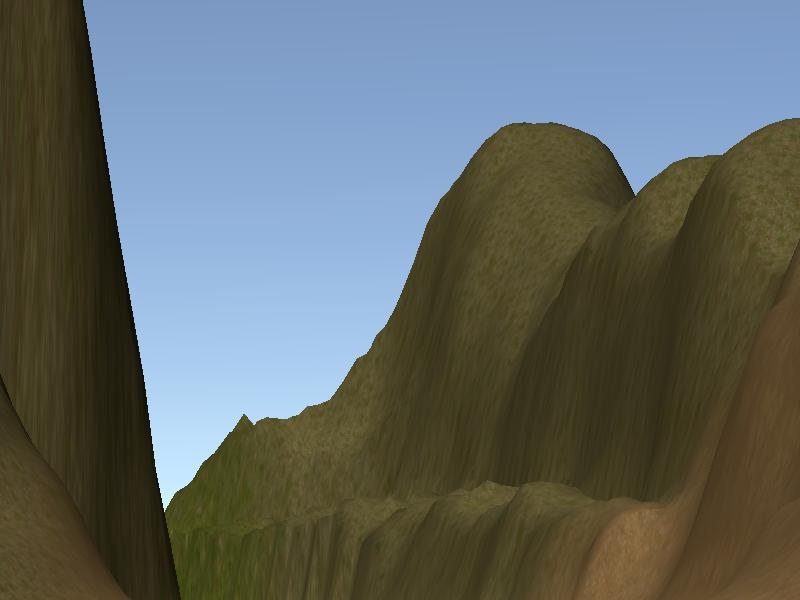background: (1, 2, 800, 597)
